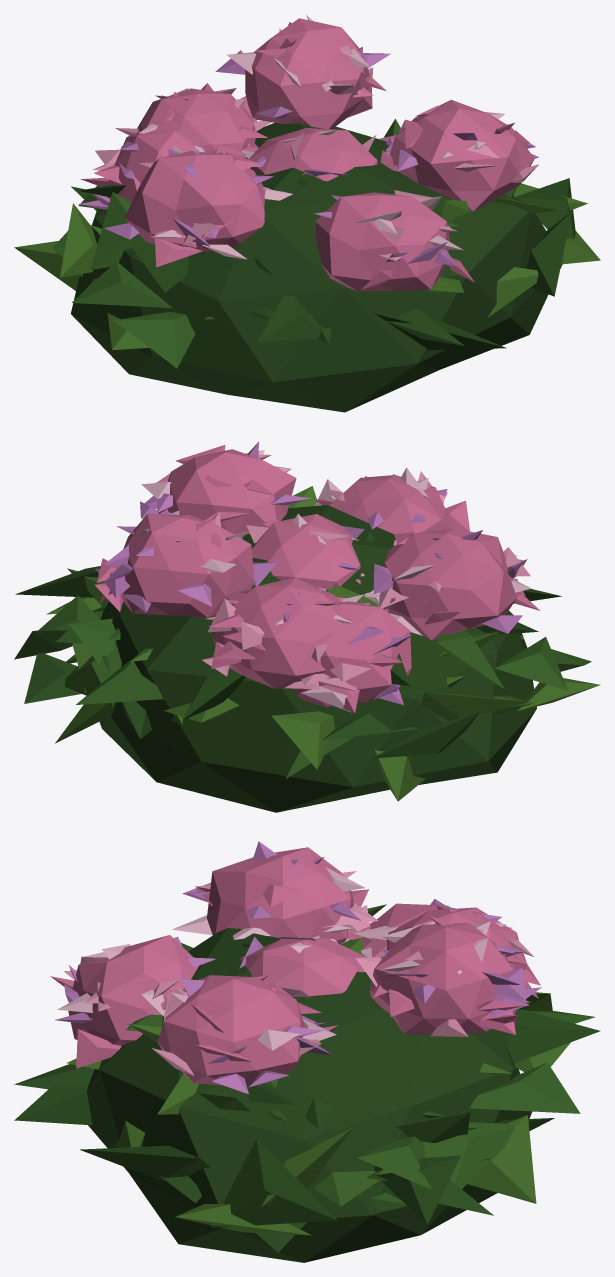
The model's file is hydrangea_pink.glb.
The picture shows the model from 3 angles, top to bottom: view 1: azimuth 30°, elevation 25°; view 2: azimuth 150°, elevation 25°; view 3: azimuth 270°, elevation 25°; orthographic projection. The views are drawn at different scales.
Visible parts, largest first — view 1: hydrangea_pink; view 2: hydrangea_pink; view 3: hydrangea_pink.
Part boxes in pixels (<box>): hydrangea_pink: <box>14,15,600,412</box>; hydrangea_pink: <box>14,441,600,812</box>; hydrangea_pink: <box>14,841,600,1262</box>.
Size of the model in its own units: 1.73 by 0.7644 by 1.54.
